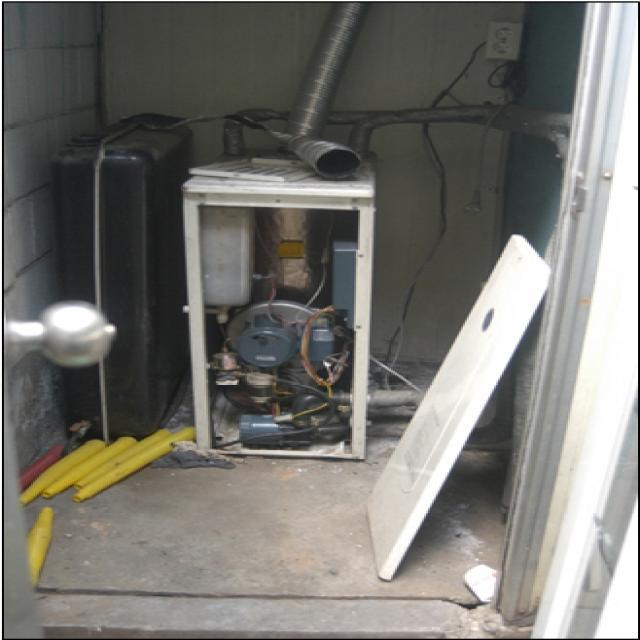Boiler: (157, 118, 397, 478)
